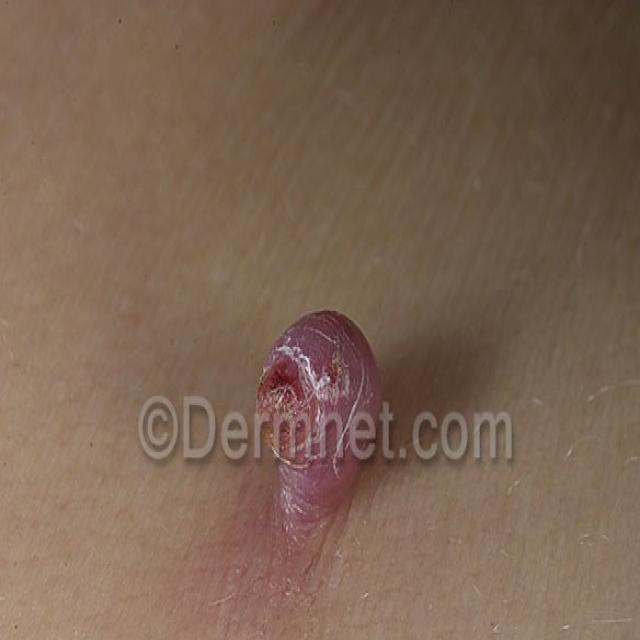Vascular Tumors: (210, 273, 398, 584)
